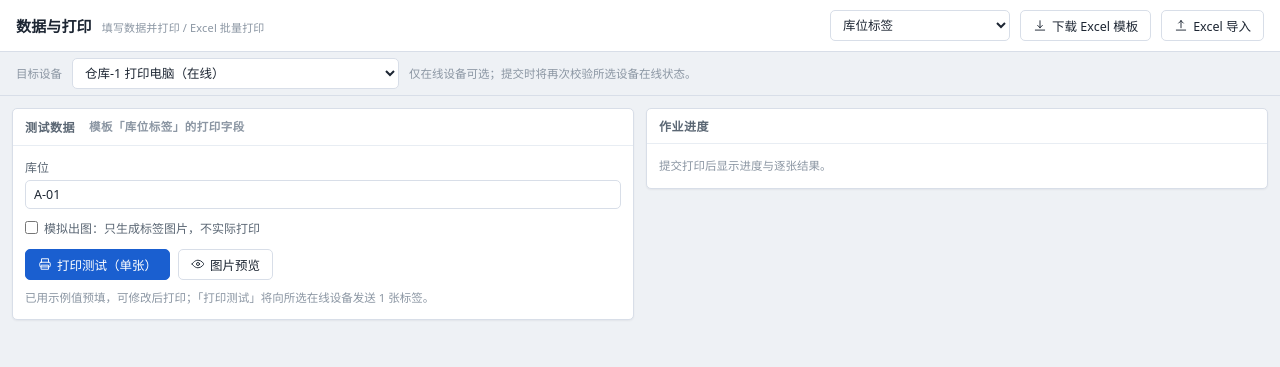
Scenario: DataPrint server 构建：提交前现拉校验（K3） › 现拉校验失败（网络错误）：提示并禁止提交
Expected: the field showing "A-01" is shown, [25,180,621,208]
Expected: the dropdown named "目标设备" is shown, [72,58,399,89]
What coordinates should you click on to do the following:
click the button "打印测试（单张）"
I would click on:
 (98, 264)
Its box is [25,248,170,280].
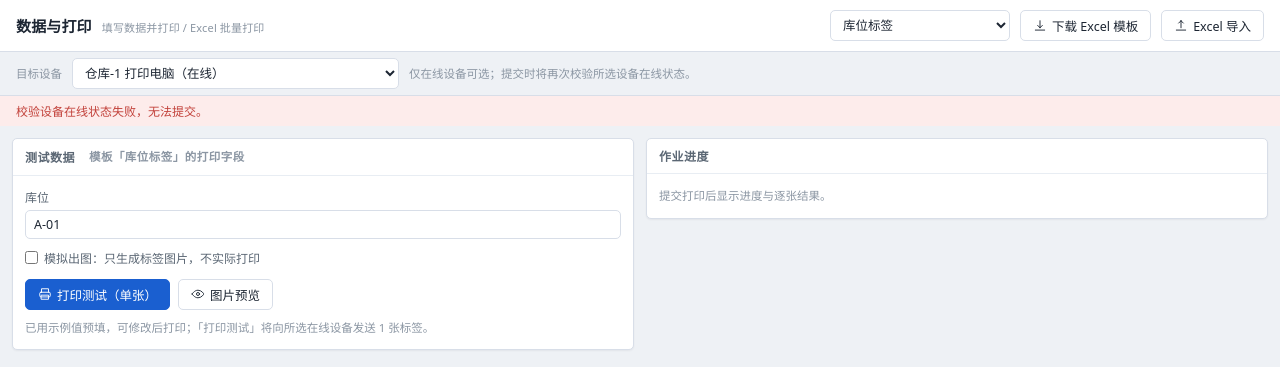
Now the text "校验设备在线状态失败，无法提交。" is shown, box [0,96,1279,126]
